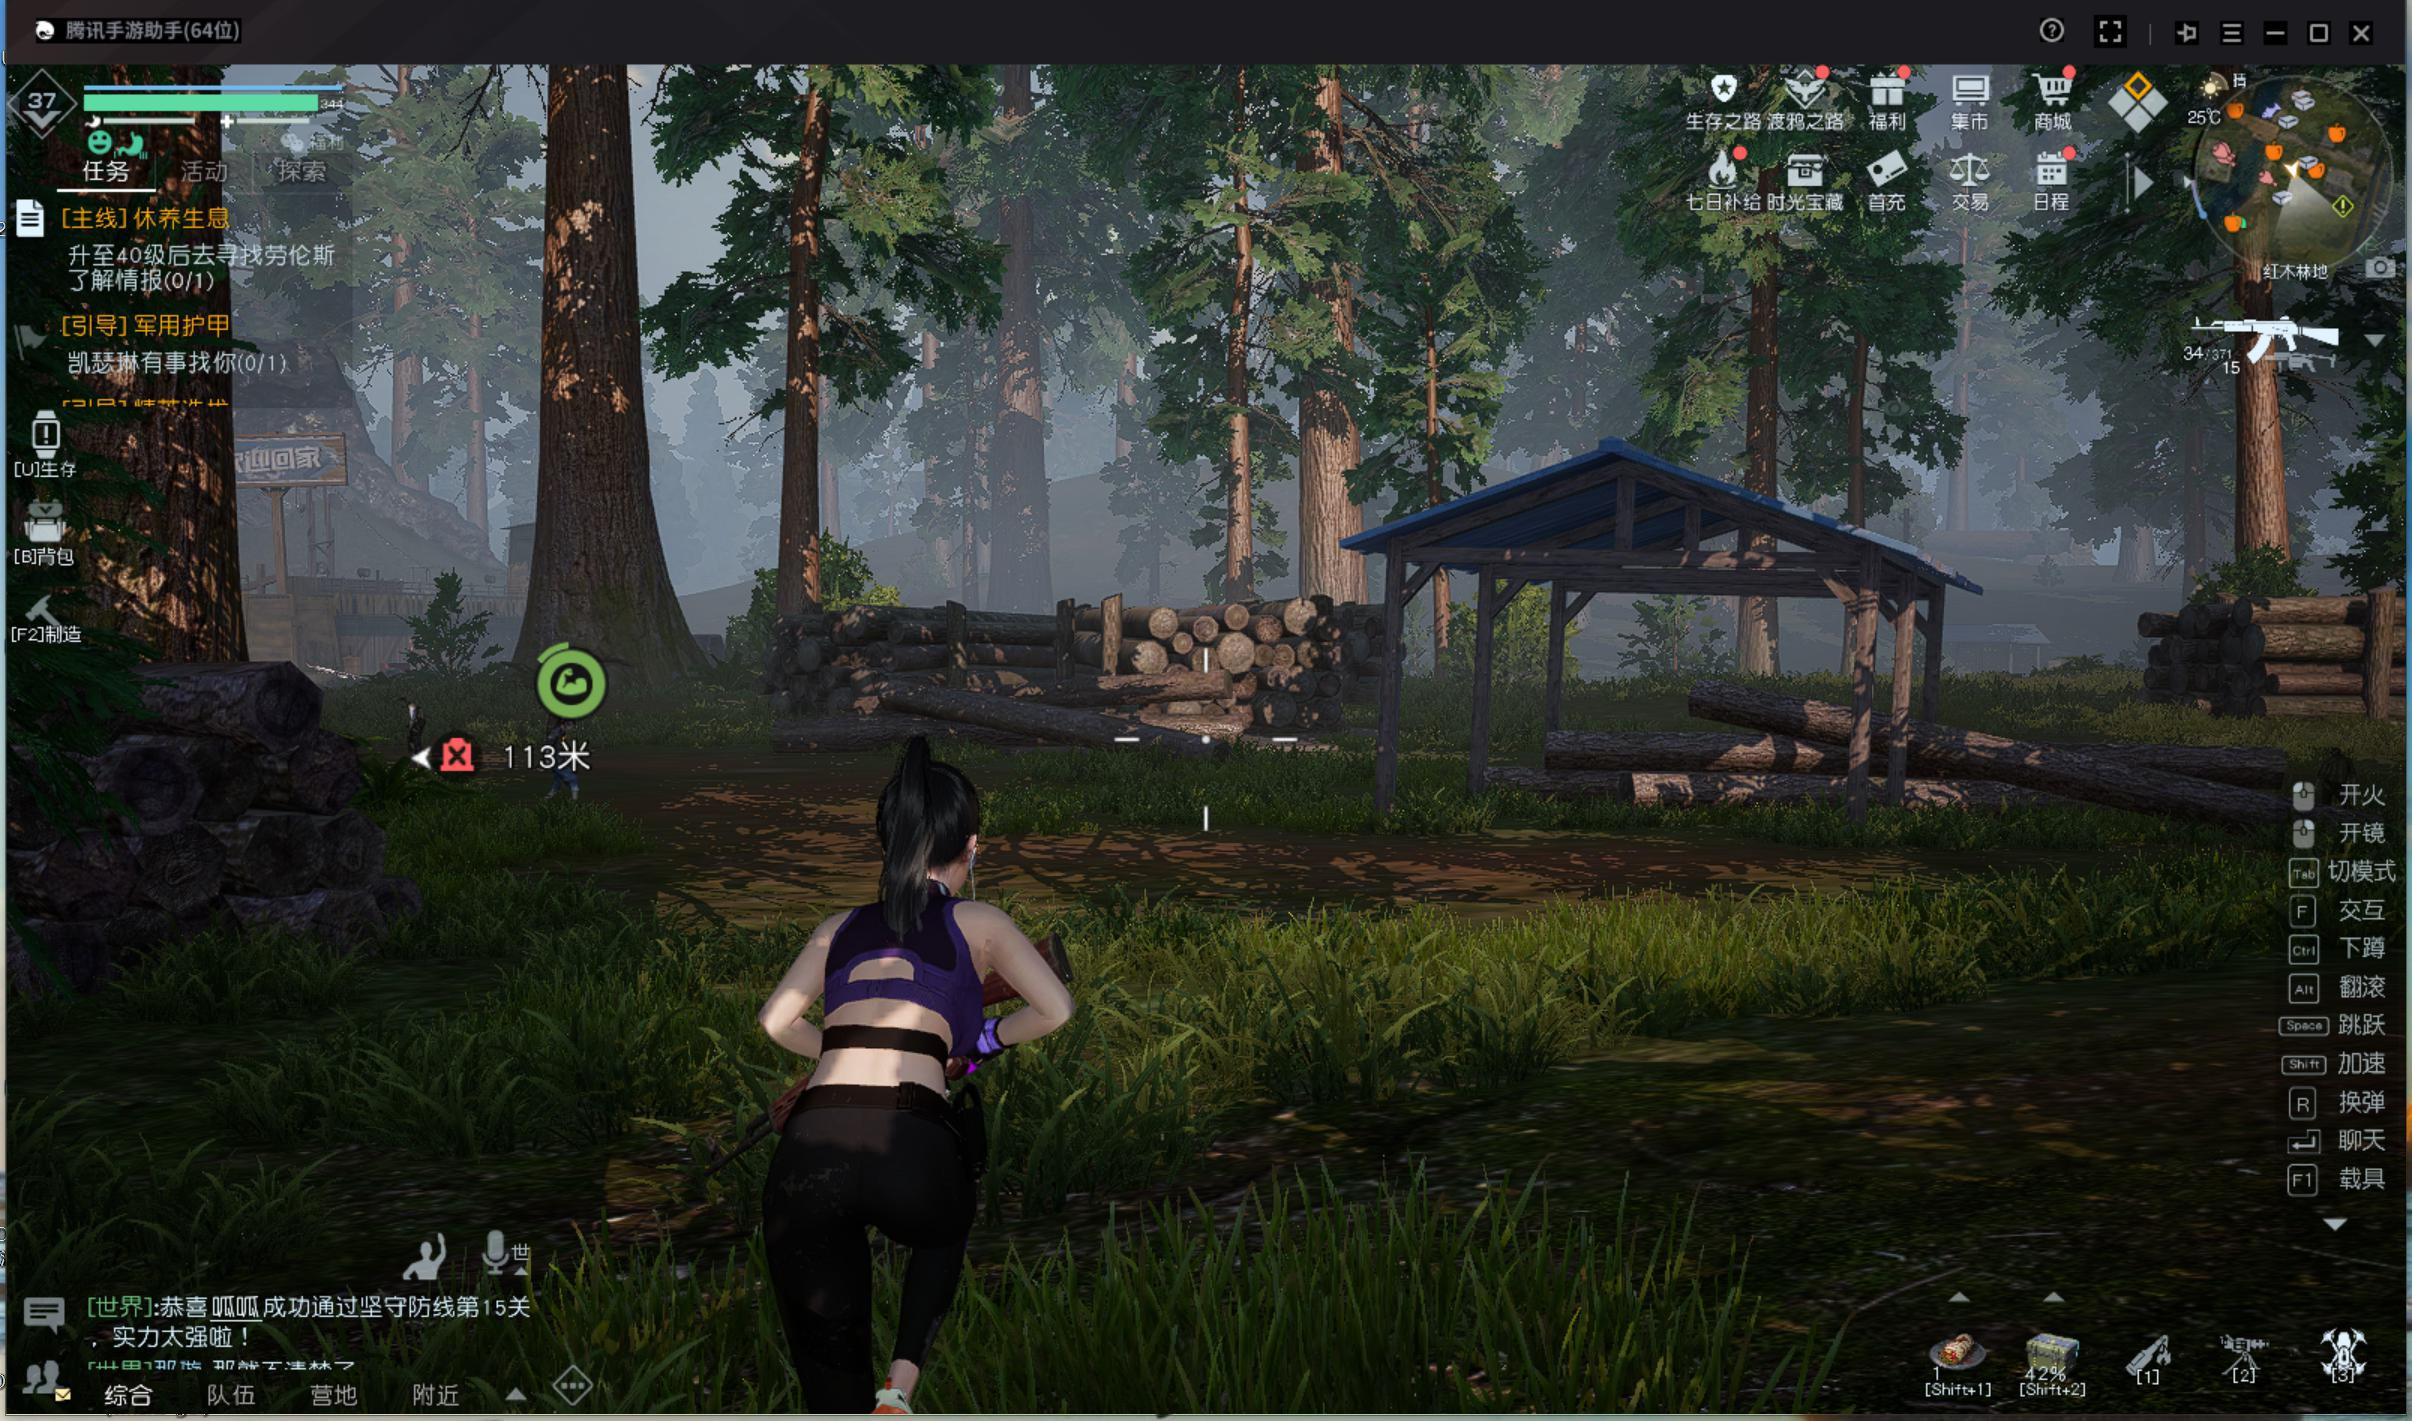tree: (516, 220, 683, 682), (761, 289, 832, 692), (2224, 348, 2300, 668), (1296, 377, 1373, 643), (1729, 303, 1781, 682), (1221, 355, 1262, 648)
